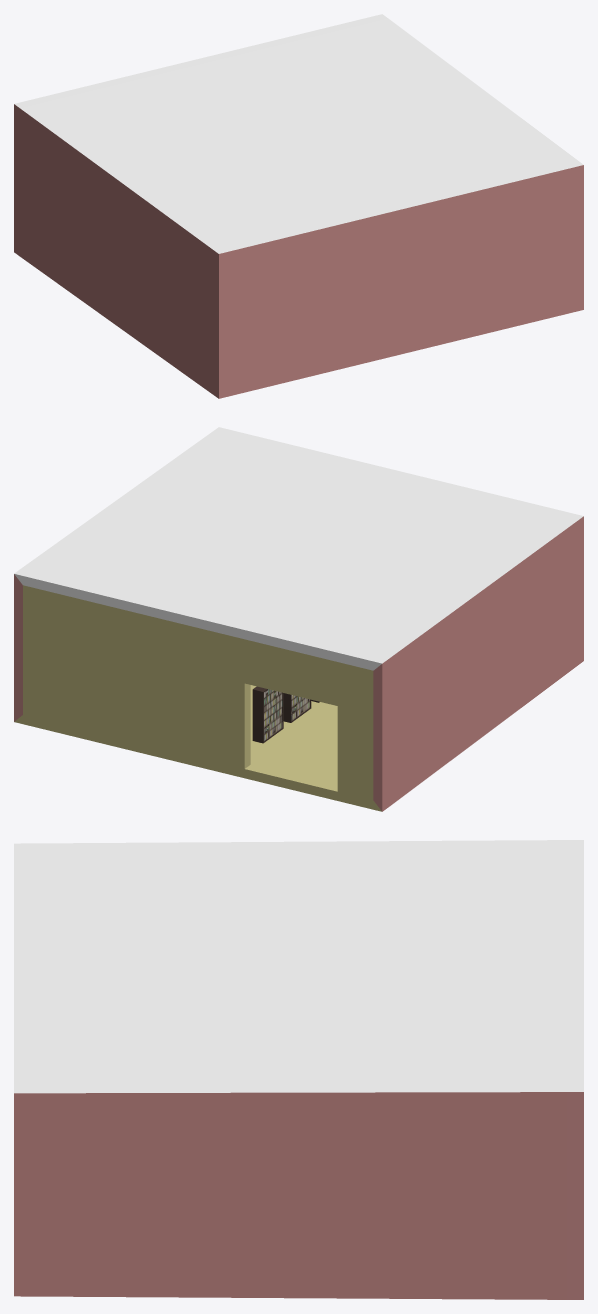
The model's file is library.fbx.
The picture shows the model from 3 angles, top to bottom: view 1: azimuth 30°, elevation 25°; view 2: azimuth 150°, elevation 25°; view 3: azimuth 270°, elevation 25°; orthographic projection. The views are drawn at different scales.
Parts seen in each view (by area): view 1: library; view 2: library; view 3: library.
Boxes of the visible parts, bbox=[...] form: library: bbox=[14, 14, 583, 398]; library: bbox=[14, 427, 583, 811]; library: bbox=[14, 840, 583, 1299].
Size of the model in its own units: 1992 by 766 by 1904.
Materials: 7 (1 with a texture image).
